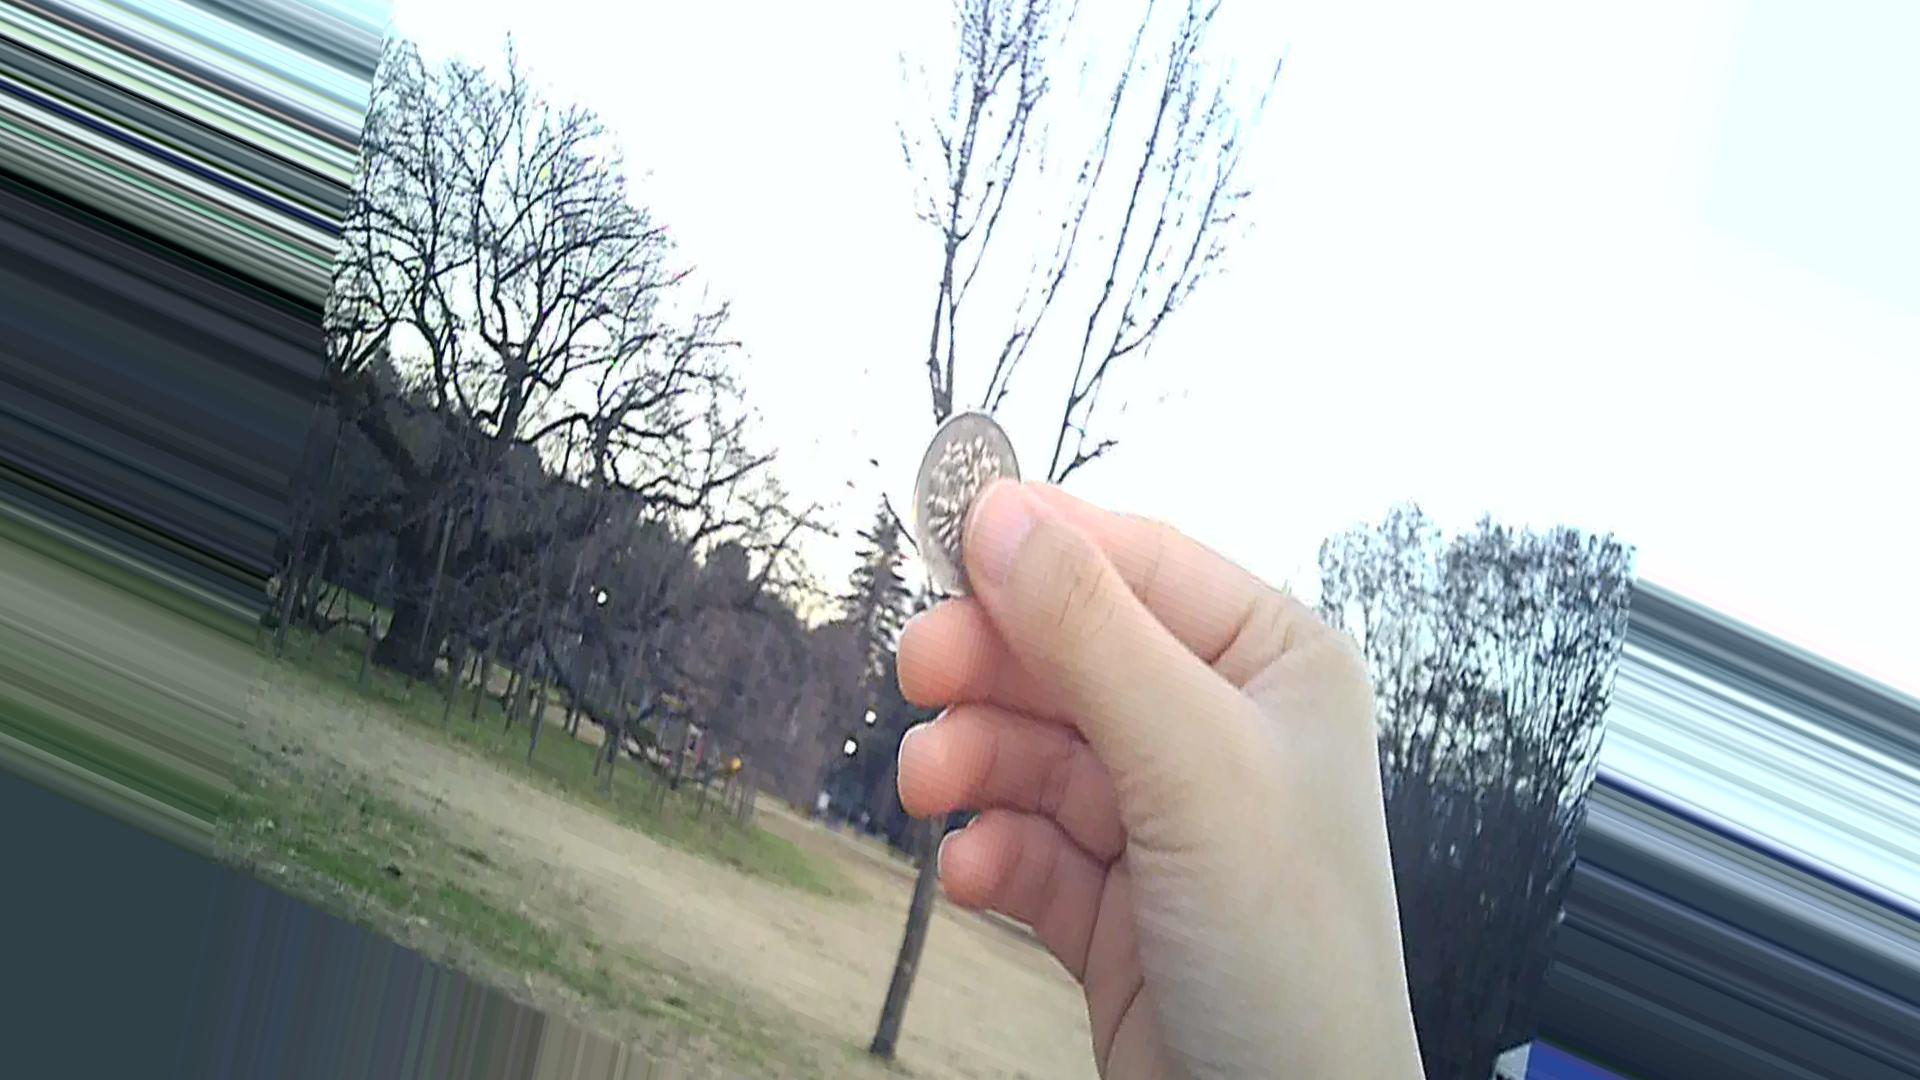100 Yen: (905, 406, 1010, 632)
